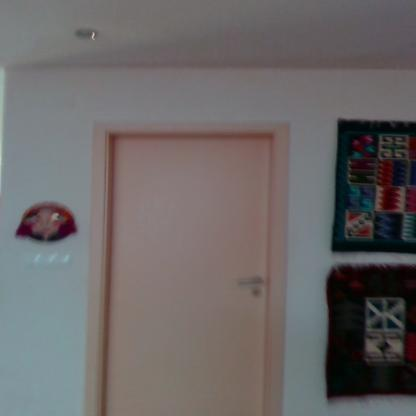door: (112, 134, 272, 416)
lever: (226, 274, 264, 288)
